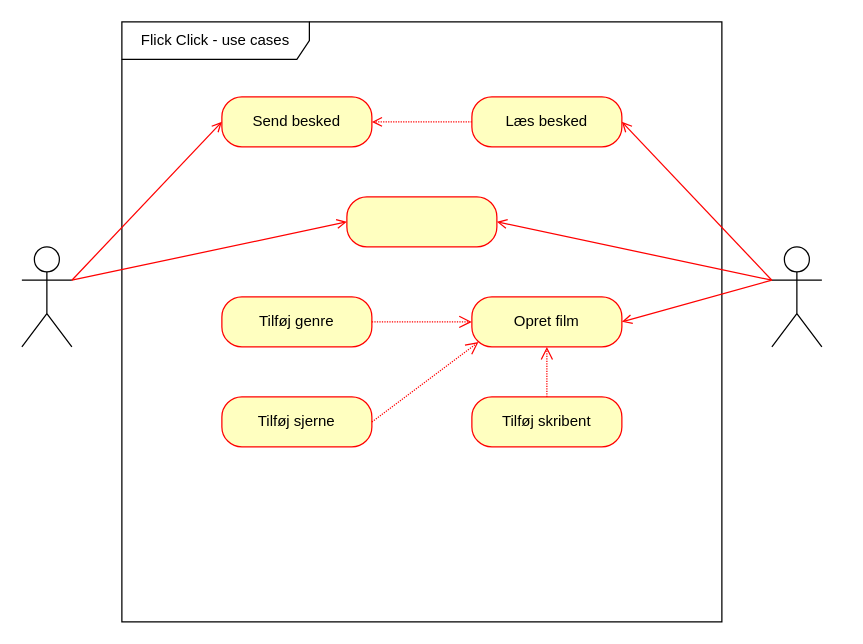
Image size: 863x644. Some labels were removed from this diagram. The shapes that lost their labels are listed below. From the top down, each one's centre as x and y in pixels, then its label:
(421,221): Lav kommentar
(46,296): Bruger
(796,296): Administrator
